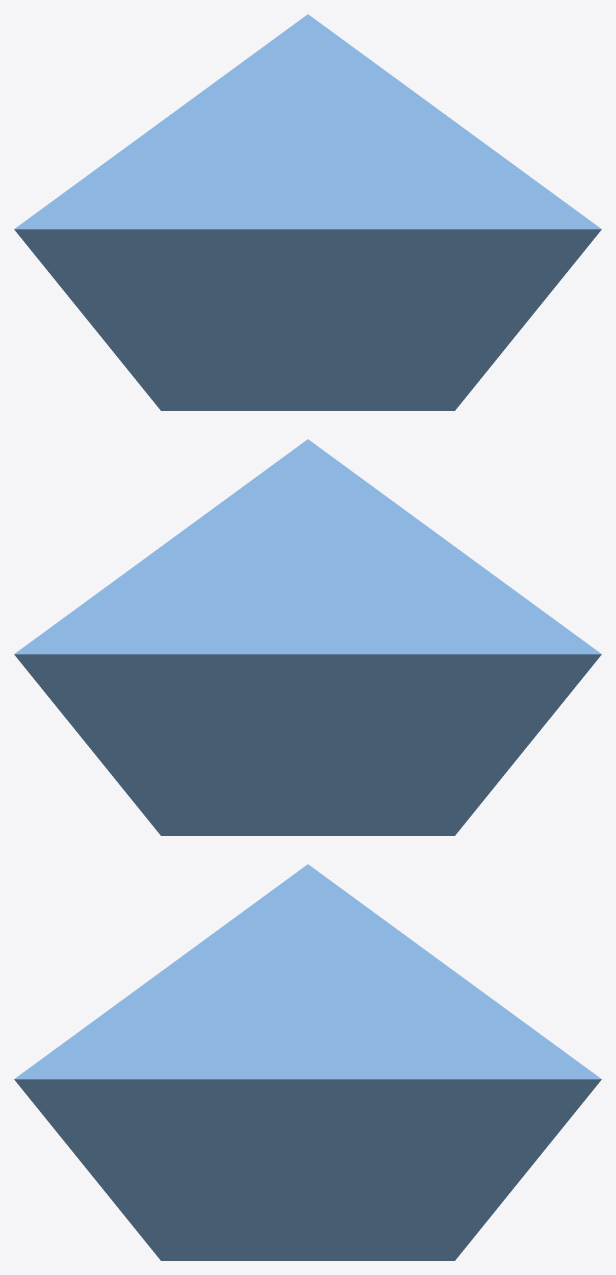
3 renders of one model, top to bottom at view 1: azimuth 30°, elevation 25°; view 2: azimuth 150°, elevation 25°; view 3: azimuth 270°, elevation 25°, orthographic.
Visible parts, largest first — view 1: Group1; view 2: Group1; view 3: Group1.
Boxes of the visible parts, x1,y1,x2,y2 form: Group1: [14, 14, 601, 410]; Group1: [14, 439, 601, 835]; Group1: [14, 864, 601, 1260].
Bounding box in the file's own units: 6.93 × 3.26 × 8.
